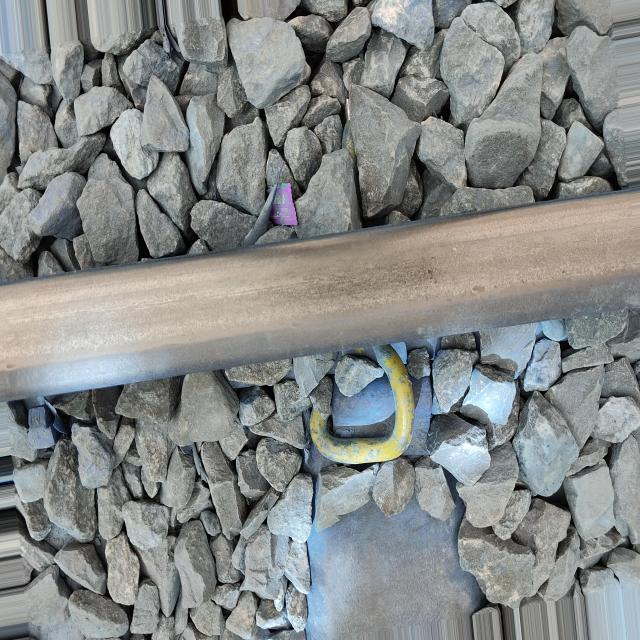Good Fasteners: (301, 332, 448, 483)
